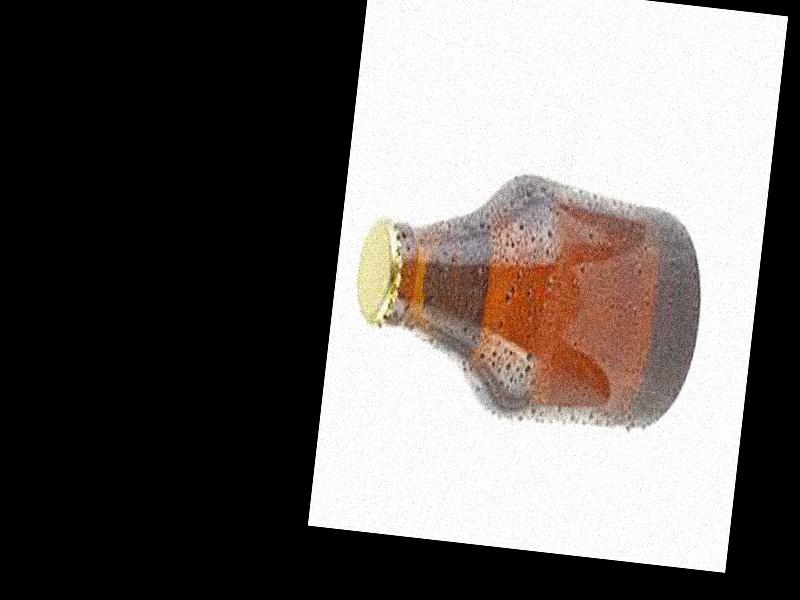Beer: (344, 174, 709, 432)
